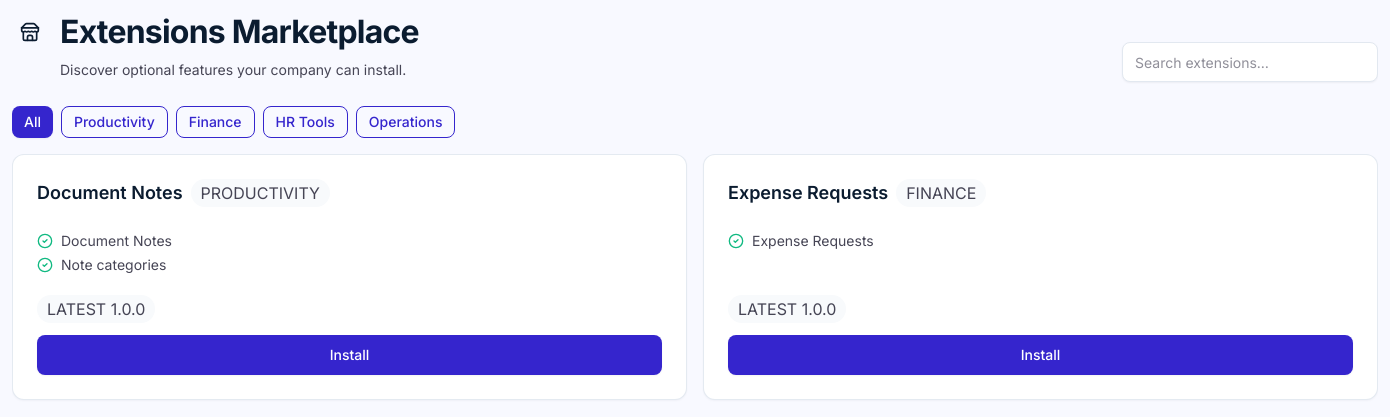
Test: MarketplacePage pending state is package-specific › filters by category and search
The width and height of the screenshot is (1390, 417).
// Finance category → only Expense Requests (Document Notes is Productivity).
Click the button "Finance" at (215, 122), box 176,106 -> 255,138
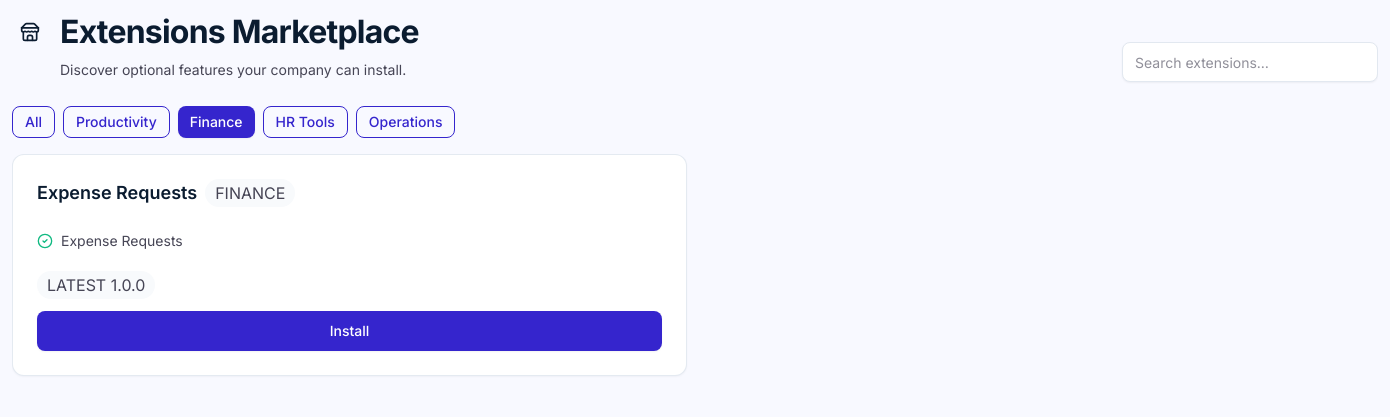
Check: the button with aria-label "Install Expense Requests" is shown, box 37,311 -> 662,351
// Back to All, then search narrows.
Click the button "All" at (34, 122), box 12,106 -> 55,138
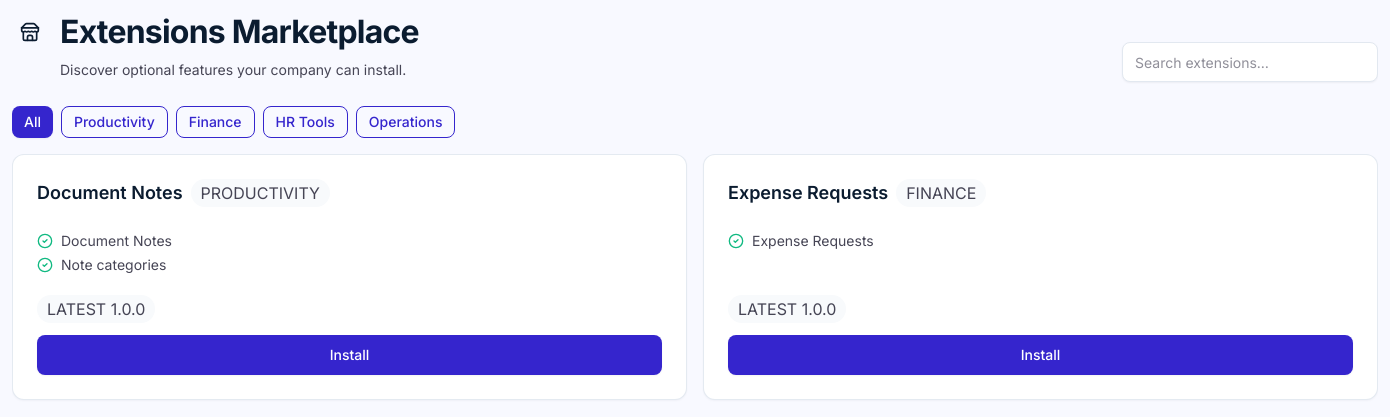
Type "notes" into the field labelled "Search extensions" at (1250, 62), box 1122,42 -> 1378,82
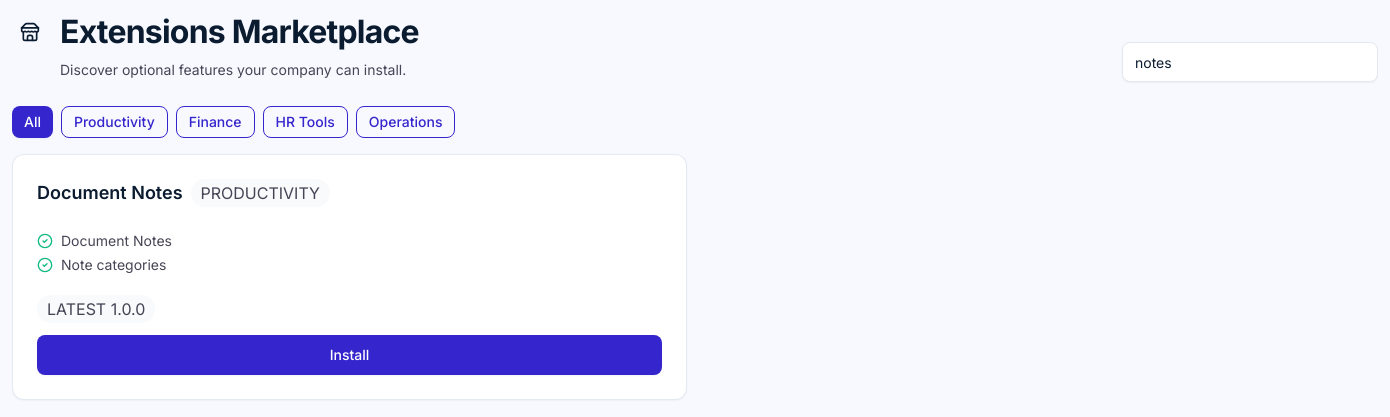
Check: the button with aria-label "Install Document Notes" is shown, box 37,335 -> 662,375
Check: the button "Install Expense Requests" is gone
